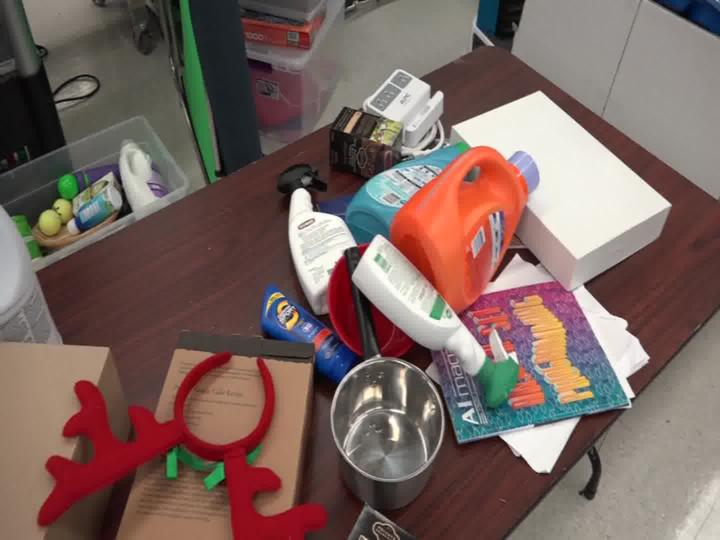downy: (330, 135, 472, 266)
